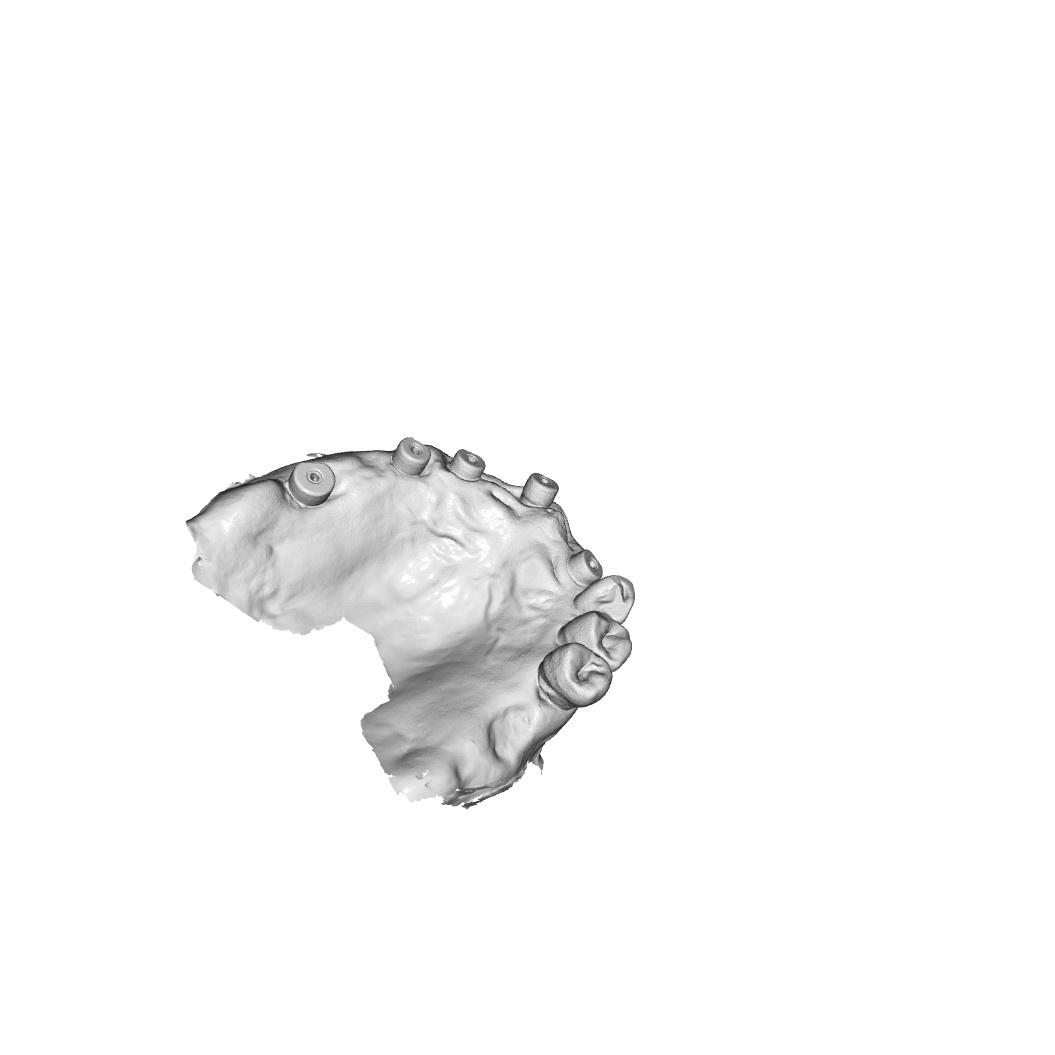canine: (573, 576, 640, 625)
implant: (291, 455, 333, 505), (567, 548, 602, 582), (520, 472, 554, 506), (451, 447, 487, 477), (400, 439, 425, 475)
premolar: (539, 640, 613, 712), (555, 611, 632, 670)
